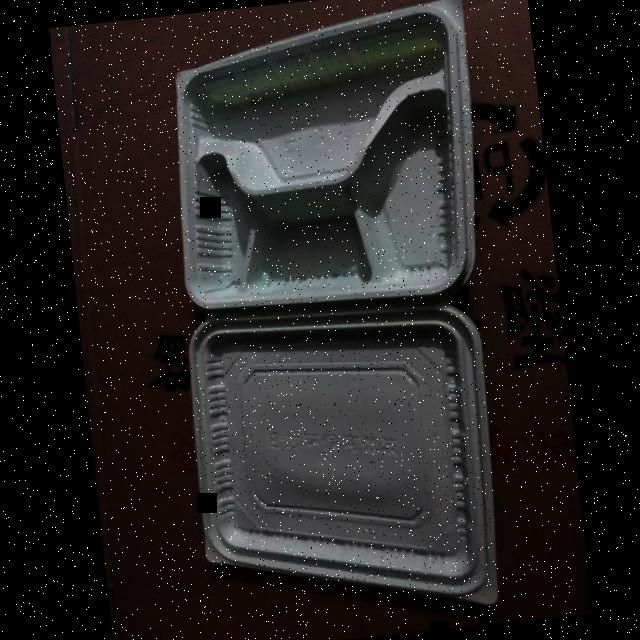plastic_box: (144, 0, 523, 633)
